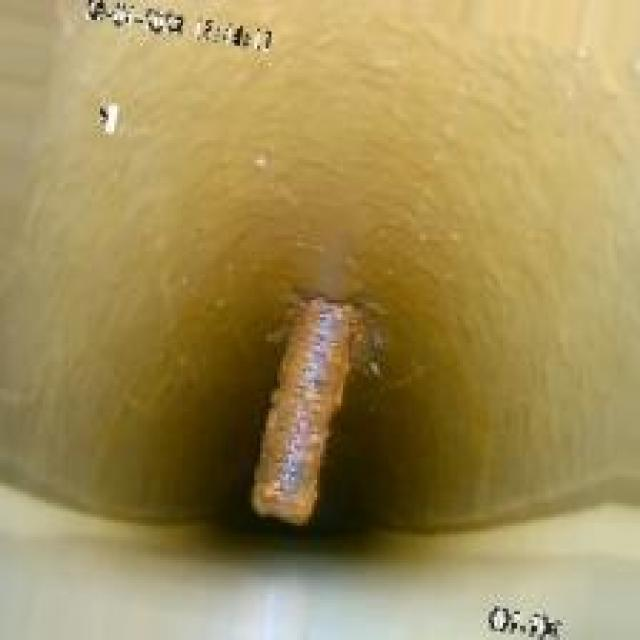ferrule: (240, 274, 363, 537)
